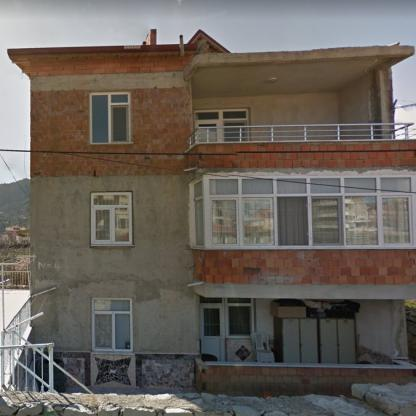door: (199, 304, 225, 358)
window: (188, 170, 413, 248), (90, 192, 132, 247), (90, 92, 130, 146), (92, 299, 132, 351), (194, 108, 248, 144), (228, 299, 254, 337)
